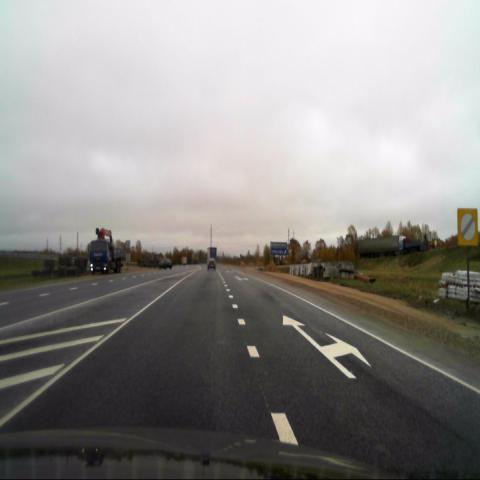3_31: (458, 207, 478, 245)
